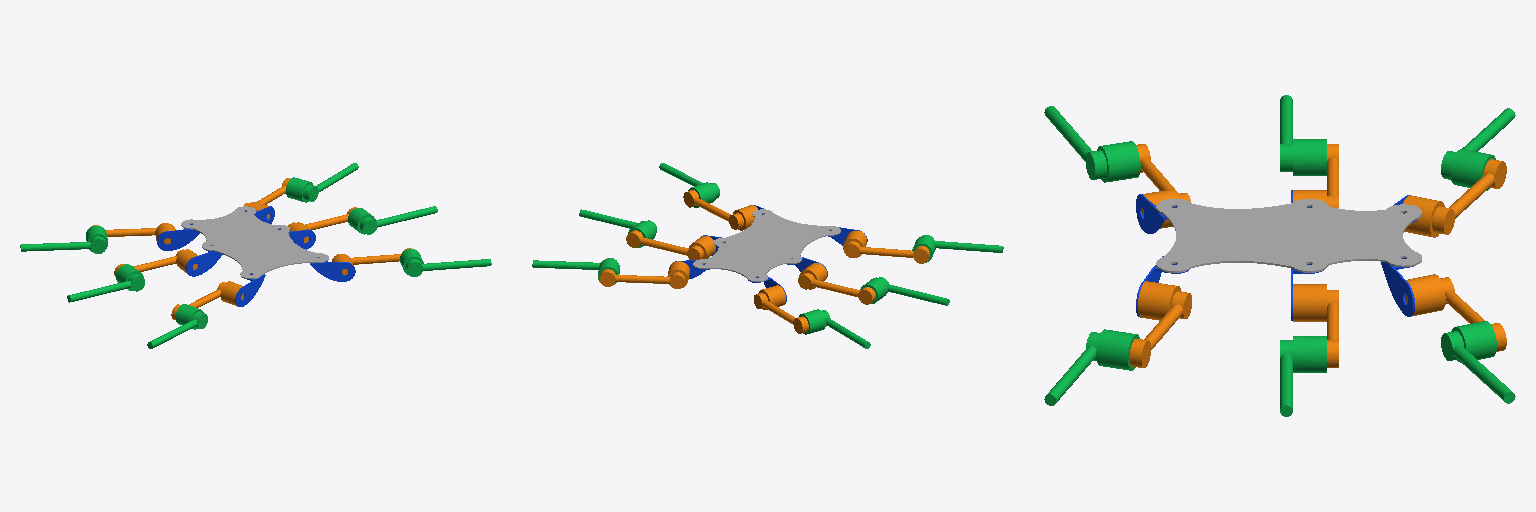
The robot description file, URDF, robot "insectoid_mini":
<?xml version='1.0' encoding='utf-8'?>
<robot name="insectoid_mini">
  <material name="base_gray">
    <color rgba="0.7 0.7 0.7 1.0" />
  </material>
  <material name="coxa_blue">
    <color rgba="0.1 0.35 0.95 1.0" />
  </material>
  <material name="femur_orange">
    <color rgba="0.95 0.55 0.1 1.0" />
  </material>
  <material name="tibia_green">
    <color rgba="0.1 0.75 0.35 1.0" />
  </material>
  <link name="base_link">
    <inertial>
      <origin xyz="-3.74148352e-08 -0.0335873321 -0.000500000024" rpy="0 0 0" />
      <mass value="1.7466509123337282" />
      <inertia ixx="1.973799511e-02" iyy="6.783734695e-03" izz="2.651910983e-02" ixy="1.186337684e-08" iyz="-0.000000000e+00" ixz="1.412592622e-21" />
    </inertial>
    <visual>
      <origin xyz="0 0 0" rpy="0 0 0" />
      <geometry>
        <mesh filename="../meshes_local/base_link.stl" scale="1 1 1" />
      </geometry>
      <material name="base_gray" />
    </visual>
    <collision>
      <origin xyz="0 0 0" rpy="0 0 0" />
      <geometry>
        <mesh filename="../meshes_local/base_link.stl" scale="1 1 1" />
      </geometry>
    </collision>
  </link>
  <link name="BR_coxa_1">
    <inertial>
      <origin xyz="0.0174724003 -0.0251881399 -0.0173084228" rpy="0 0 0" />
      <mass value="0.2" />
      <inertia ixx="1.431842143e-04" iyy="2.086968968e-04" izz="2.383329723e-04" ixy="8.639505712e-05" iyz="-4.726484745e-05" ixz="5.567881012e-05" />
    </inertial>
    <visual>
      <origin xyz="0 0 0" rpy="0 0 0" />
      <geometry>
        <mesh filename="../meshes_local/BR_coxa_1.stl" scale="1 1 1" />
      </geometry>
      <material name="coxa_blue" />
    </visual>
    <collision>
      <origin xyz="0 0 0" rpy="0 0 0" />
      <geometry>
        <mesh filename="../meshes_local/BR_coxa_1.stl" scale="1 1 1" />
      </geometry>
    </collision>
  </link>
  <link name="BR_femur_1">
    <inertial>
      <origin xyz="0.0399394064 -3.23031878e-09 0.0398861649" rpy="0 0 0" />
      <mass value="0.4" />
      <inertia ixx="2.237618991e-04" iyy="1.966979249e-03" izz="1.852818261e-03" ixy="1.455249086e-11" iyz="1.187388097e-11" ixz="-3.137347482e-04" />
    </inertial>
    <visual>
      <origin xyz="0 0 0" rpy="0 0 0" />
      <geometry>
        <mesh filename="../meshes_local/BR_femur_1.stl" scale="1 1 1" />
      </geometry>
      <material name="femur_orange" />
    </visual>
    <collision>
      <origin xyz="0 0 0" rpy="0 0 0" />
      <geometry>
        <mesh filename="../meshes_local/BR_femur_1.stl" scale="1 1 1" />
      </geometry>
    </collision>
  </link>
  <link name="BR_tibia_1">
    <inertial>
      <origin xyz="0.0286090859 -3.38812634e-09 -0.0386342352" rpy="0 0 0" />
      <mass value="0.4" />
      <inertia ixx="2.224036613e-04" iyy="1.433207648e-03" izz="1.318893181e-03" ixy="-1.903259057e-11" iyz="9.725077750e-12" ixz="2.391882391e-04" />
    </inertial>
    <visual>
      <origin xyz="0 0 0" rpy="0 0 0" />
      <geometry>
        <mesh filename="../meshes_local/BR_tibia_1.stl" scale="1 1 1" />
      </geometry>
      <material name="tibia_green" />
    </visual>
    <collision>
      <origin xyz="0 0 0" rpy="0 0 0" />
      <geometry>
        <mesh filename="../meshes_local/BR_tibia_1.stl" scale="1 1 1" />
      </geometry>
    </collision>
  </link>
  <link name="MR_coxa_1">
    <inertial>
      <origin xyz="0.0250332744 -0.017693334 -0.0173084474" rpy="0 0 0" />
      <mass value="0.2" />
      <inertia ixx="9.531375785e-05" iyy="2.565684740e-04" izz="2.383342142e-04" ixy="4.512598320e-05" iyz="-2.537076319e-05" ixz="6.848637326e-05" />
    </inertial>
    <visual>
      <origin xyz="0 0 0" rpy="0 0 0" />
      <geometry>
        <mesh filename="../meshes_local/MR_coxa_1.stl" scale="1 1 1" />
      </geometry>
      <material name="coxa_blue" />
    </visual>
    <collision>
      <origin xyz="0 0 0" rpy="0 0 0" />
      <geometry>
        <mesh filename="../meshes_local/MR_coxa_1.stl" scale="1 1 1" />
      </geometry>
    </collision>
  </link>
  <link name="MR_femur_1">
    <inertial>
      <origin xyz="0.0399498686 2.5652951e-09 0.0398905054" rpy="0 0 0" />
      <mass value="0.4" />
      <inertia ixx="2.237499291e-04" iyy="1.966992253e-03" izz="1.852817773e-03" ixy="-7.105018706e-12" iyz="-3.876899760e-12" ixz="-3.137581059e-04" />
    </inertial>
    <visual>
      <origin xyz="0 0 0" rpy="0 0 0" />
      <geometry>
        <mesh filename="../meshes_local/MR_femur_1.stl" scale="1 1 1" />
      </geometry>
      <material name="femur_orange" />
    </visual>
    <collision>
      <origin xyz="0 0 0" rpy="0 0 0" />
      <geometry>
        <mesh filename="../meshes_local/MR_femur_1.stl" scale="1 1 1" />
      </geometry>
    </collision>
  </link>
  <link name="MR_tibia_1">
    <inertial>
      <origin xyz="0.0286310756 1.21439141e-09 -0.038638294" rpy="0 0 0" />
      <mass value="0.4" />
      <inertia ixx="2.223598656e-04" iyy="1.433707112e-03" izz="1.319402314e-03" ixy="-1.985501408e-11" iyz="1.151099654e-11" ixz="2.392034435e-04" />
    </inertial>
    <visual>
      <origin xyz="0 0 0" rpy="0 0 0" />
      <geometry>
        <mesh filename="../meshes_local/MR_tibia_1.stl" scale="1 1 1" />
      </geometry>
      <material name="tibia_green" />
    </visual>
    <collision>
      <origin xyz="0 0 0" rpy="0 0 0" />
      <geometry>
        <mesh filename="../meshes_local/MR_tibia_1.stl" scale="1 1 1" />
      </geometry>
    </collision>
  </link>
  <link name="FR_coxa_1">
    <inertial>
      <origin xyz="0.0301651128 -0.00545606018 -0.0173083025" rpy="0 0 0" />
      <mass value="0.2" />
      <inertia ixx="8.954596894e-05" iyy="2.623350658e-04" izz="2.383333272e-04" ixy="-3.275702200e-05" iyz="5.949608964e-06" ixz="7.279175493e-05" />
    </inertial>
    <visual>
      <origin xyz="0 0 0" rpy="0 0 0" />
      <geometry>
        <mesh filename="../meshes_local/FR_coxa_1.stl" scale="1 1 1" />
      </geometry>
      <material name="coxa_blue" />
    </visual>
    <collision>
      <origin xyz="0 0 0" rpy="0 0 0" />
      <geometry>
        <mesh filename="../meshes_local/FR_coxa_1.stl" scale="1 1 1" />
      </geometry>
    </collision>
  </link>
  <link name="FR_femur_1">
    <inertial>
      <origin xyz="0.0399369142 -3.12524358e-09 0.0398875495" rpy="0 0 0" />
      <mass value="0.4" />
      <inertia ixx="2.237799607e-04" iyy="1.966936926e-03" izz="1.852751278e-03" ixy="3.121504789e-11" iyz="3.757924292e-12" ixz="-3.137846530e-04" />
    </inertial>
    <visual>
      <origin xyz="0 0 0" rpy="0 0 0" />
      <geometry>
        <mesh filename="../meshes_local/FR_femur_1.stl" scale="1 1 1" />
      </geometry>
      <material name="femur_orange" />
    </visual>
    <collision>
      <origin xyz="0 0 0" rpy="0 0 0" />
      <geometry>
        <mesh filename="../meshes_local/FR_femur_1.stl" scale="1 1 1" />
      </geometry>
    </collision>
  </link>
  <link name="FR_tibia_1">
    <inertial>
      <origin xyz="0.028611631 -2.94783833e-09 -0.0386333681" rpy="0 0 0" />
      <mass value="0.4" />
      <inertia ixx="2.223840208e-04" iyy="1.433231779e-03" izz="1.318930991e-03" ixy="-1.767018146e-11" iyz="8.693610382e-12" ixz="2.391527301e-04" />
    </inertial>
    <visual>
      <origin xyz="0 0 0" rpy="0 0 0" />
      <geometry>
        <mesh filename="../meshes_local/FR_tibia_1.stl" scale="1 1 1" />
      </geometry>
      <material name="tibia_green" />
    </visual>
    <collision>
      <origin xyz="0 0 0" rpy="0 0 0" />
      <geometry>
        <mesh filename="../meshes_local/FR_tibia_1.stl" scale="1 1 1" />
      </geometry>
    </collision>
  </link>
  <link name="FL_coxa_1">
    <inertial>
      <origin xyz="-0.0301601029 0.00548089471 0.0173635886" rpy="0 0 0" />
      <mass value="0.2" />
      <inertia ixx="8.981926071e-05" iyy="2.623460955e-04" izz="2.381311181e-04" ixy="-3.281304969e-05" iyz="5.908634275e-06" ixz="7.277343443e-05" />
    </inertial>
    <visual>
      <origin xyz="0 0 0" rpy="0 0 0" />
      <geometry>
        <mesh filename="../meshes_local/FL_coxa_1.stl" scale="1 1 1" />
      </geometry>
      <material name="coxa_blue" />
    </visual>
    <collision>
      <origin xyz="0 0 0" rpy="0 0 0" />
      <geometry>
        <mesh filename="../meshes_local/FL_coxa_1.stl" scale="1 1 1" />
      </geometry>
    </collision>
  </link>
  <link name="FL_femur_1">
    <inertial>
      <origin xyz="-0.0399455433 2.73232724e-09 -0.0398907692" rpy="0 0 0" />
      <mass value="0.4" />
      <inertia ixx="2.237657366e-04" iyy="1.967161376e-03" izz="1.852948377e-03" ixy="2.544489621e-11" iyz="1.439882005e-11" ixz="-3.138010244e-04" />
    </inertial>
    <visual>
      <origin xyz="0 0 0" rpy="0 0 0" />
      <geometry>
        <mesh filename="../meshes_local/FL_femur_1.stl" scale="1 1 1" />
      </geometry>
      <material name="femur_orange" />
    </visual>
    <collision>
      <origin xyz="0 0 0" rpy="0 0 0" />
      <geometry>
        <mesh filename="../meshes_local/FL_femur_1.stl" scale="1 1 1" />
      </geometry>
    </collision>
  </link>
  <link name="FL_tibia_1">
    <inertial>
      <origin xyz="-0.0286182111 3.26802245e-09 0.0386365045" rpy="0 0 0" />
      <mass value="0.4" />
      <inertia ixx="2.223718624e-04" iyy="1.433422814e-03" izz="1.319089614e-03" ixy="-1.514110976e-11" iyz="-4.145343711e-12" ixz="2.391718310e-04" />
    </inertial>
    <visual>
      <origin xyz="0 0 0" rpy="0 0 0" />
      <geometry>
        <mesh filename="../meshes_local/FL_tibia_1.stl" scale="1 1 1" />
      </geometry>
      <material name="tibia_green" />
    </visual>
    <collision>
      <origin xyz="0 0 0" rpy="0 0 0" />
      <geometry>
        <mesh filename="../meshes_local/FL_tibia_1.stl" scale="1 1 1" />
      </geometry>
    </collision>
  </link>
  <link name="ML_coxa_1">
    <inertial>
      <origin xyz="-0.0250041783 0.0176996033 0.0173077963" rpy="0 0 0" />
      <mass value="0.2" />
      <inertia ixx="9.525554860e-05" iyy="2.566037406e-04" izz="2.383926999e-04" ixy="4.504307076e-05" iyz="-2.535091201e-05" ixz="6.843876299e-05" />
    </inertial>
    <visual>
      <origin xyz="0 0 0" rpy="0 0 0" />
      <geometry>
        <mesh filename="../meshes_local/ML_coxa_1.stl" scale="1 1 1" />
      </geometry>
      <material name="coxa_blue" />
    </visual>
    <collision>
      <origin xyz="0 0 0" rpy="0 0 0" />
      <geometry>
        <mesh filename="../meshes_local/ML_coxa_1.stl" scale="1 1 1" />
      </geometry>
    </collision>
  </link>
  <link name="ML_femur_1">
    <inertial>
      <origin xyz="-0.0399498686 1.55668306e-09 -0.0398905056" rpy="0 0 0" />
      <mass value="0.4" />
      <inertia ixx="2.237499423e-04" iyy="1.966992345e-03" izz="1.852817858e-03" ixy="-1.460680668e-11" iyz="-5.168658529e-12" ixz="-3.137581028e-04" />
    </inertial>
    <visual>
      <origin xyz="0 0 0" rpy="0 0 0" />
      <geometry>
        <mesh filename="../meshes_local/ML_femur_1.stl" scale="1 1 1" />
      </geometry>
      <material name="femur_orange" />
    </visual>
    <collision>
      <origin xyz="0 0 0" rpy="0 0 0" />
      <geometry>
        <mesh filename="../meshes_local/ML_femur_1.stl" scale="1 1 1" />
      </geometry>
    </collision>
  </link>
  <link name="ML_tibia_1">
    <inertial>
      <origin xyz="-0.0286310742 2.62215454e-09 0.0386382944" rpy="0 0 0" />
      <mass value="0.4" />
      <inertia ixx="2.223598620e-04" iyy="1.433707024e-03" izz="1.319402234e-03" ixy="-7.533972858e-12" iyz="1.021659765e-11" ixz="2.392034275e-04" />
    </inertial>
    <visual>
      <origin xyz="0 0 0" rpy="0 0 0" />
      <geometry>
        <mesh filename="../meshes_local/ML_tibia_1.stl" scale="1 1 1" />
      </geometry>
      <material name="tibia_green" />
    </visual>
    <collision>
      <origin xyz="0 0 0" rpy="0 0 0" />
      <geometry>
        <mesh filename="../meshes_local/ML_tibia_1.stl" scale="1 1 1" />
      </geometry>
    </collision>
  </link>
  <link name="BL_coxa_1">
    <inertial>
      <origin xyz="-0.0174431819 0.0251841226 0.0173078081" rpy="0 0 0" />
      <mass value="0.2" />
      <inertia ixx="1.430844245e-04" iyy="2.087734003e-04" izz="2.383904692e-04" ixy="8.636172467e-05" iyz="-4.723015295e-05" ixz="5.564091896e-05" />
    </inertial>
    <visual>
      <origin xyz="0 0 0" rpy="0 0 0" />
      <geometry>
        <mesh filename="../meshes_local/BL_coxa_1.stl" scale="1 1 1" />
      </geometry>
      <material name="coxa_blue" />
    </visual>
    <collision>
      <origin xyz="0 0 0" rpy="0 0 0" />
      <geometry>
        <mesh filename="../meshes_local/BL_coxa_1.stl" scale="1 1 1" />
      </geometry>
    </collision>
  </link>
  <link name="BL_femur_1">
    <inertial>
      <origin xyz="-0.0399394055 2.31821789e-09 -0.0398861642" rpy="0 0 0" />
      <mass value="0.4" />
      <inertia ixx="2.237619015e-04" iyy="1.966979303e-03" izz="1.852818316e-03" ixy="2.263410033e-11" iyz="3.000234721e-12" ixz="-3.137347594e-04" />
    </inertial>
    <visual>
      <origin xyz="0 0 0" rpy="0 0 0" />
      <geometry>
        <mesh filename="../meshes_local/BL_femur_1.stl" scale="1 1 1" />
      </geometry>
      <material name="femur_orange" />
    </visual>
    <collision>
      <origin xyz="0 0 0" rpy="0 0 0" />
      <geometry>
        <mesh filename="../meshes_local/BL_femur_1.stl" scale="1 1 1" />
      </geometry>
    </collision>
  </link>
  <link name="BL_tibia_1">
    <inertial>
      <origin xyz="-0.0286090845 3.39374126e-09 0.0386342348" rpy="0 0 0" />
      <mass value="0.4" />
      <inertia ixx="2.224036571e-04" iyy="1.433207567e-03" izz="1.318893103e-03" ixy="-1.482401532e-11" iyz="1.522838837e-12" ixz="2.391882394e-04" />
    </inertial>
    <visual>
      <origin xyz="0 0 0" rpy="0 0 0" />
      <geometry>
        <mesh filename="../meshes_local/BL_tibia_1.stl" scale="1 1 1" />
      </geometry>
      <material name="tibia_green" />
    </visual>
    <collision>
      <origin xyz="0 0 0" rpy="0 0 0" />
      <geometry>
        <mesh filename="../meshes_local/BL_tibia_1.stl" scale="1 1 1" />
      </geometry>
    </collision>
  </link>
  <joint name="BR_coxa_joint" type="revolute">
    <origin xyz="0.1 -0.2 -0.002" rpy="0 -0 0" />
    <parent link="base_link" />
    <child link="BR_coxa_1" />
    <axis xyz="0 0 1" />
    <limit lower="-1.047198" upper="1.047198" effort="24.0" velocity="5.445427" />
    <dynamics damping="0.1" friction="0.01" />
  </joint>
  <joint name="BR_femur_joint" type="revolute">
    <origin xyz="0.052707 -0.045235 -0.0315" rpy="-1.57079633 -0 -0.349044398" />
    <parent link="BR_coxa_1" />
    <child link="BR_femur_1" />
    <axis xyz="0 0 1" />
    <limit lower="-1.221730" upper="0.000000" effort="24.0" velocity="5.445427" />
    <dynamics damping="0.1" friction="0.01" />
  </joint>
  <joint name="BR_tibia_joint" type="revolute">
    <origin xyz="0.180001376 0 0.0499962435" rpy="0 1.5891251e-16 0" />
    <parent link="BR_femur_1" />
    <child link="BR_tibia_1" />
    <axis xyz="0 0 1" />
    <limit lower="0.000000" upper="2.617994" effort="24.0" velocity="5.445427" />
    <dynamics damping="0.1" friction="0.01" />
  </joint>
  <joint name="MR_coxa_joint" type="revolute">
    <origin xyz="0.1 0 -0.002" rpy="0 -0 0" />
    <parent link="base_link" />
    <child link="MR_coxa_1" />
    <axis xyz="0 0 1" />
    <limit lower="-1.047198" upper="1.047198" effort="24.0" velocity="5.445427" />
    <dynamics damping="0.1" friction="0.01" />
  </joint>
  <joint name="MR_femur_joint" type="revolute">
    <origin xyz="0.065 -0.02448 -0.0315" rpy="-1.57079633 -0 0" />
    <parent link="MR_coxa_1" />
    <child link="MR_femur_1" />
    <axis xyz="0 0 1" />
    <limit lower="-1.221730" upper="0.000000" effort="24.0" velocity="5.445427" />
    <dynamics damping="0.1" friction="0.01" />
  </joint>
  <joint name="MR_tibia_joint" type="revolute">
    <origin xyz="0.18 0 0.05" rpy="0 -0 0" />
    <parent link="MR_femur_1" />
    <child link="MR_tibia_1" />
    <axis xyz="0 0 1" />
    <limit lower="0.000000" upper="2.617994" effort="24.0" velocity="5.445427" />
    <dynamics damping="0.1" friction="0.01" />
  </joint>
  <joint name="FR_coxa_joint" type="revolute">
    <origin xyz="0.08 0.14 -0.002" rpy="0 -0 0" />
    <parent link="base_link" />
    <child link="FR_coxa_1" />
    <axis xyz="0 0 1" />
    <limit lower="-1.047198" upper="1.047198" effort="24.0" velocity="5.445427" />
    <dynamics damping="0.1" friction="0.01" />
  </joint>
  <joint name="FR_femur_joint" type="revolute">
    <origin xyz="0.069256 0.005284 -0.0315" rpy="-1.57079633 -0 0.436319053" />
    <parent link="FR_coxa_1" />
    <child link="FR_femur_1" />
    <axis xyz="0 0 1" />
    <limit lower="-1.221730" upper="0.000000" effort="24.0" velocity="5.445427" />
    <dynamics damping="0.1" friction="0.01" />
  </joint>
  <joint name="FR_tibia_joint" type="revolute">
    <origin xyz="0.179998608 0 0.0500019802" rpy="0 -2.33756987e-17 0" />
    <parent link="FR_femur_1" />
    <child link="FR_tibia_1" />
    <axis xyz="0 0 1" />
    <limit lower="0.000000" upper="2.617994" effort="24.0" velocity="5.445427" />
    <dynamics damping="0.1" friction="0.01" />
  </joint>
  <joint name="FL_coxa_joint" type="revolute">
    <origin xyz="-0.08 0.14 -0.002" rpy="3.14159265 -0 0" />
    <parent link="base_link" />
    <child link="FL_coxa_1" />
    <axis xyz="0 0 1" />
    <limit lower="-1.047198" upper="1.047198" effort="24.0" velocity="5.445427" />
    <dynamics damping="0.1" friction="0.01" />
  </joint>
  <joint name="FL_femur_joint" type="revolute">
    <origin xyz="-0.069256 -0.005284 0.0315" rpy="-1.57079633 -0 0.436319053" />
    <parent link="FL_coxa_1" />
    <child link="FL_femur_1" />
    <axis xyz="0 0 1" />
    <limit lower="-1.221730" upper="0.000000" effort="24.0" velocity="5.445427" />
    <dynamics damping="0.1" friction="0.01" />
  </joint>
  <joint name="FL_tibia_joint" type="revolute">
    <origin xyz="-0.179998608 0 -0.0500019802" rpy="0 -2.33756987e-17 0" />
    <parent link="FL_femur_1" />
    <child link="FL_tibia_1" />
    <axis xyz="0 0 1" />
    <limit lower="0.000000" upper="2.617994" effort="24.0" velocity="5.445427" />
    <dynamics damping="0.1" friction="0.01" />
  </joint>
  <joint name="ML_coxa_joint" type="revolute">
    <origin xyz="-0.1 0 -0.002" rpy="3.14159265 -0 0" />
    <parent link="base_link" />
    <child link="ML_coxa_1" />
    <axis xyz="0 0 1" />
    <limit lower="-1.047198" upper="1.047198" effort="24.0" velocity="5.445427" />
    <dynamics damping="0.1" friction="0.01" />
  </joint>
  <joint name="ML_femur_joint" type="revolute">
    <origin xyz="-0.065 0.02448 0.0315" rpy="-1.57079633 -0 0" />
    <parent link="ML_coxa_1" />
    <child link="ML_femur_1" />
    <axis xyz="0 0 1" />
    <limit lower="-1.221730" upper="0.000000" effort="24.0" velocity="5.445427" />
    <dynamics damping="0.1" friction="0.01" />
  </joint>
  <joint name="ML_tibia_joint" type="revolute">
    <origin xyz="-0.18 0 -0.05" rpy="0 -0 0" />
    <parent link="ML_femur_1" />
    <child link="ML_tibia_1" />
    <axis xyz="0 0 1" />
    <limit lower="0.000000" upper="2.617994" effort="24.0" velocity="5.445427" />
    <dynamics damping="0.1" friction="0.01" />
  </joint>
  <joint name="BL_coxa_joint" type="revolute">
    <origin xyz="-0.1 -0.2 -0.002" rpy="3.14159265 -0 0" />
    <parent link="base_link" />
    <child link="BL_coxa_1" />
    <axis xyz="0 0 1" />
    <limit lower="-1.047198" upper="1.047198" effort="24.0" velocity="5.445427" />
    <dynamics damping="0.1" friction="0.01" />
  </joint>
  <joint name="BL_femur_joint" type="revolute">
    <origin xyz="-0.052707 0.045235 0.0315" rpy="-1.57079633 -0 -0.349044398" />
    <parent link="BL_coxa_1" />
    <child link="BL_femur_1" />
    <axis xyz="0 0 1" />
    <limit lower="-1.221730" upper="0.000000" effort="24.0" velocity="5.445427" />
    <dynamics damping="0.1" friction="0.01" />
  </joint>
  <joint name="BL_tibia_joint" type="revolute">
    <origin xyz="-0.180001376 0 -0.0499962435" rpy="0 1.5891251e-16 0" />
    <parent link="BL_femur_1" />
    <child link="BL_tibia_1" />
    <axis xyz="0 0 1" />
    <limit lower="0.000000" upper="2.617994" effort="24.0" velocity="5.445427" />
    <dynamics damping="0.1" friction="0.01" />
  </joint>
</robot>

--- Render facts (derived) ---
The picture shows the robot from 3 angles, left to right: view 1: azimuth 30°, elevation 25°; view 2: azimuth 150°, elevation 25°; view 3: azimuth 270°, elevation 25°; orthographic projection.
Model insectoid_mini with 19 links and 18 joints (18 revolute), rooted at base_link, posed every joint at zero.
Links seen in each view (by area): view 1: base_link, MR_tibia_1, BR_tibia_1, FL_tibia_1, ML_tibia_1, FR_tibia_1, BL_tibia_1, BL_femur_1, ML_femur_1, BR_coxa_1, FL_coxa_1, FL_femur_1 (+2 smaller); view 2: base_link, FR_femur_1, BL_femur_1, ML_femur_1, MR_femur_1, FL_femur_1, BR_femur_1, ML_tibia_1, FL_tibia_1, BL_tibia_1, FR_tibia_1, MR_tibia_1 (+1 smaller); view 3: base_link, BR_femur_1, BL_tibia_1, FR_tibia_1, FL_femur_1, BR_tibia_1, MR_tibia_1, ML_tibia_1, MR_femur_1, FL_tibia_1, FR_femur_1, BL_femur_1 (+3 smaller).
Boxes of the visible links, <box> form: base_link: <box>181,206,328,278</box>; MR_tibia_1: <box>348,206,437,234</box>; BR_tibia_1: <box>400,249,491,276</box>; FL_tibia_1: <box>20,226,107,253</box>; ML_tibia_1: <box>67,264,144,302</box>; FR_tibia_1: <box>286,163,358,202</box>; BL_tibia_1: <box>147,304,207,348</box>; BL_femur_1: <box>171,281,243,319</box>; ML_femur_1: <box>114,249,197,276</box>; BR_coxa_1: <box>310,261,355,281</box>; FL_coxa_1: <box>157,224,199,250</box>; FL_femur_1: <box>91,223,175,243</box>; base_link: <box>693,209,840,281</box>; FR_femur_1: <box>599,261,689,288</box>; BL_femur_1: <box>843,231,929,263</box>; ML_femur_1: <box>798,263,875,304</box>; MR_femur_1: <box>626,230,715,259</box>; FL_femur_1: <box>754,285,808,333</box>; BR_femur_1: <box>683,190,757,230</box>; ML_tibia_1: <box>860,277,949,305</box>; FL_tibia_1: <box>799,309,870,348</box>; BL_tibia_1: <box>912,235,1003,262</box>; FR_tibia_1: <box>532,258,619,284</box>; MR_tibia_1: <box>579,209,656,247</box>; base_link: <box>1156,199,1421,272</box>; BR_femur_1: <box>1129,281,1191,367</box>; BL_tibia_1: <box>1044,106,1140,182</box>; FR_tibia_1: <box>1441,321,1515,403</box>; FL_femur_1: <box>1403,159,1506,237</box>; BR_tibia_1: <box>1044,329,1139,405</box>; MR_tibia_1: <box>1280,336,1326,416</box>; ML_tibia_1: <box>1280,95,1326,175</box>; MR_femur_1: <box>1293,284,1338,367</box>; FL_tibia_1: <box>1441,108,1515,190</box>; FR_femur_1: <box>1405,274,1506,351</box>; BL_femur_1: <box>1136,144,1190,228</box>.
Bounding box of the posed robot: 1.09 × 0.6989 × 0.062 m (x, y, z).
Meshes: 19 distinct files referenced, 19 mesh visuals loaded (19 binary STL).
